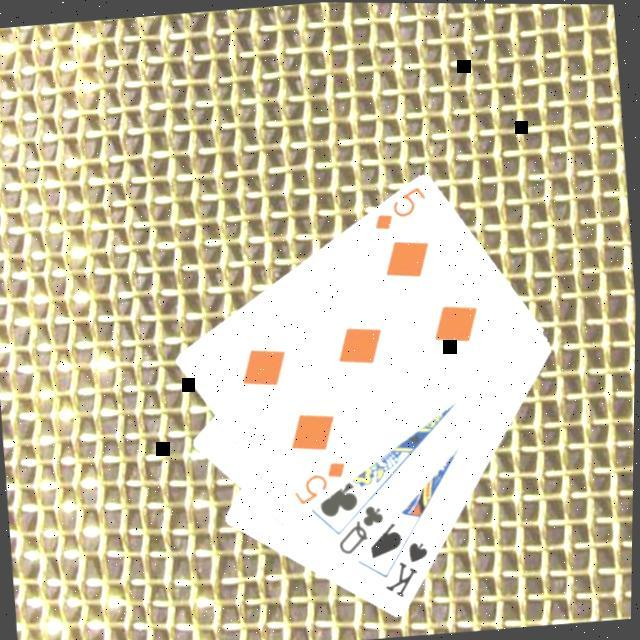5D: (366, 182, 432, 235), (287, 458, 352, 510)
KS: (378, 538, 436, 604)
QC: (332, 500, 392, 559)
